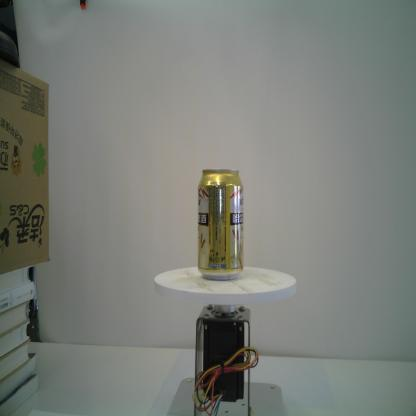Alcohol: (196, 168, 244, 281)
